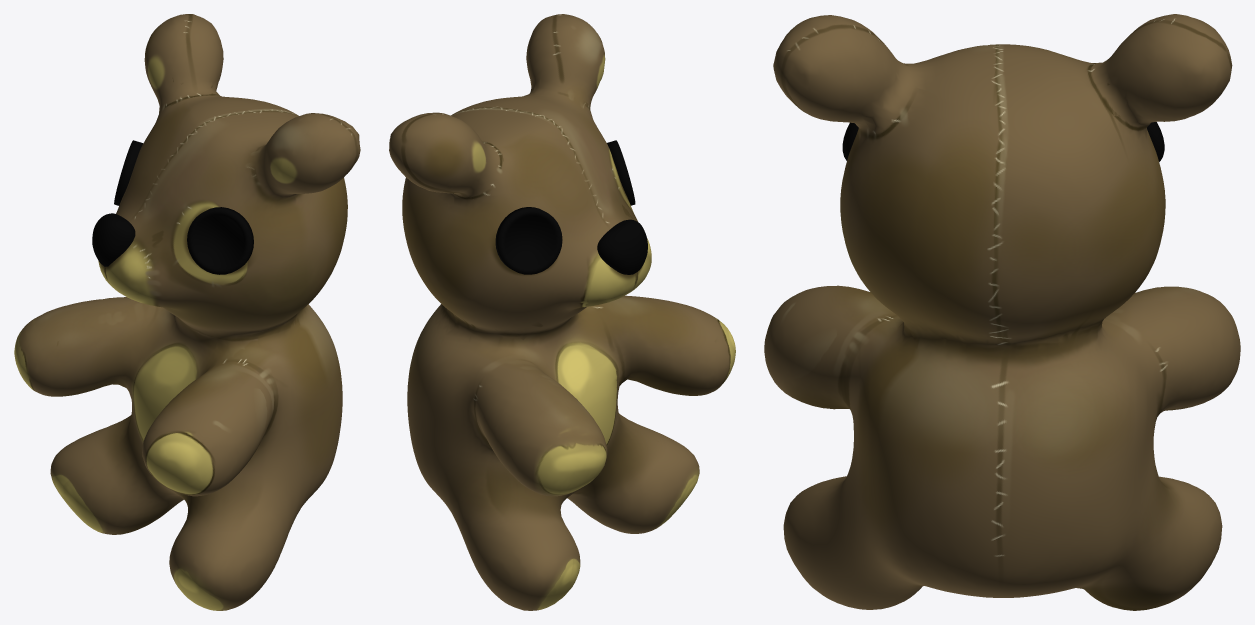
Rendered from PL_bear.glb.
3 views of the same model, side by side, from view 1: azimuth 30°, elevation 25°; view 2: azimuth 150°, elevation 25°; view 3: azimuth 270°, elevation 25° (orthographic). The views are drawn at different scales.
Visible parts, largest first — view 1: Icosphere, Circle.001, Cone, Circle; view 2: Icosphere, Circle, Cone, Circle.001; view 3: Icosphere.
Part boxes in pixels (x1,y1,x2,y2): Icosphere: [14, 14, 360, 610]; Circle.001: [187, 207, 253, 274]; Cone: [92, 213, 135, 266]; Circle: [114, 140, 143, 205]; Icosphere: [389, 14, 735, 610]; Circle: [495, 207, 562, 274]; Cone: [597, 219, 647, 274]; Circle.001: [607, 140, 635, 205]; Icosphere: [764, 14, 1240, 610].
Size of the model in its own units: 2.36 by 4.38 by 2.96.
2 materials, 1 textured.
